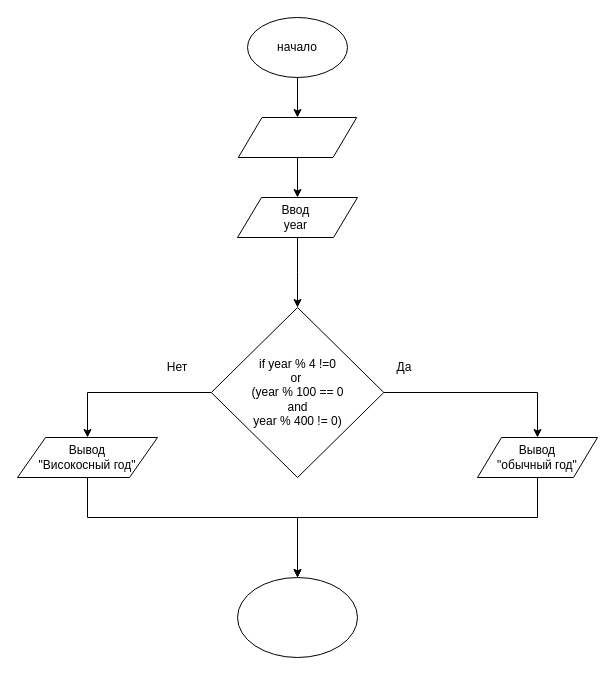
Image size: 615x675. Some labels were removed from this diagram. The centre of each missing label's shape, as x and y in pixels:
Вывод "Введите год": the point at 297,137
Конец: the point at 297,617
